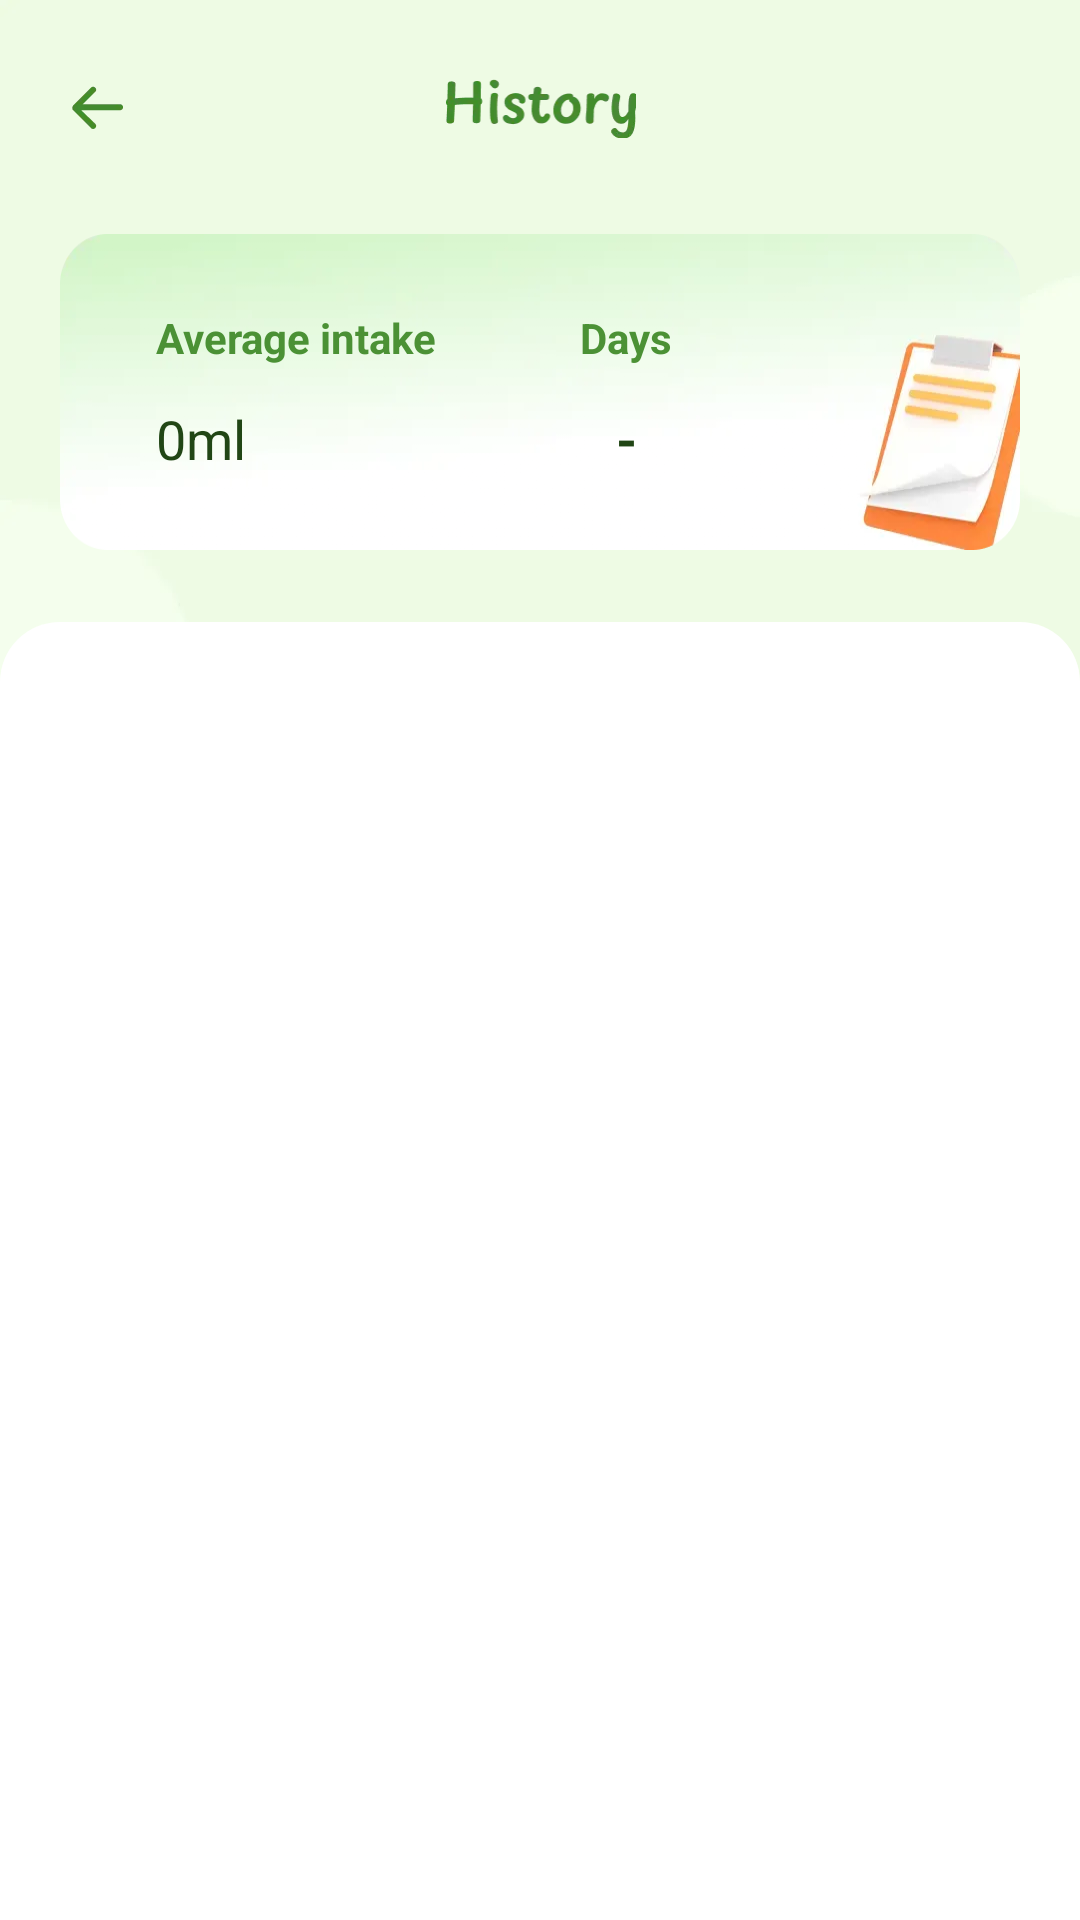

Named icons in this screenshot (1080px x 1920px) and their bounding boxes, (x1, y1, x2, y2):
back: (72, 86, 123, 129)
